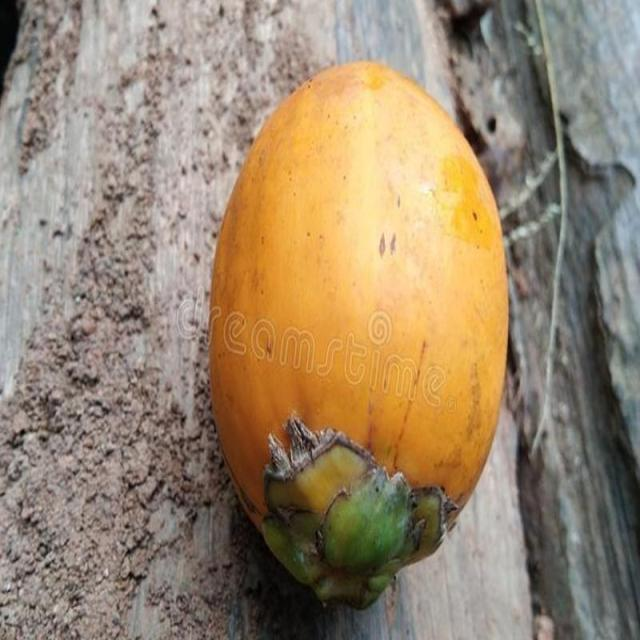good: (207, 61, 510, 612)
